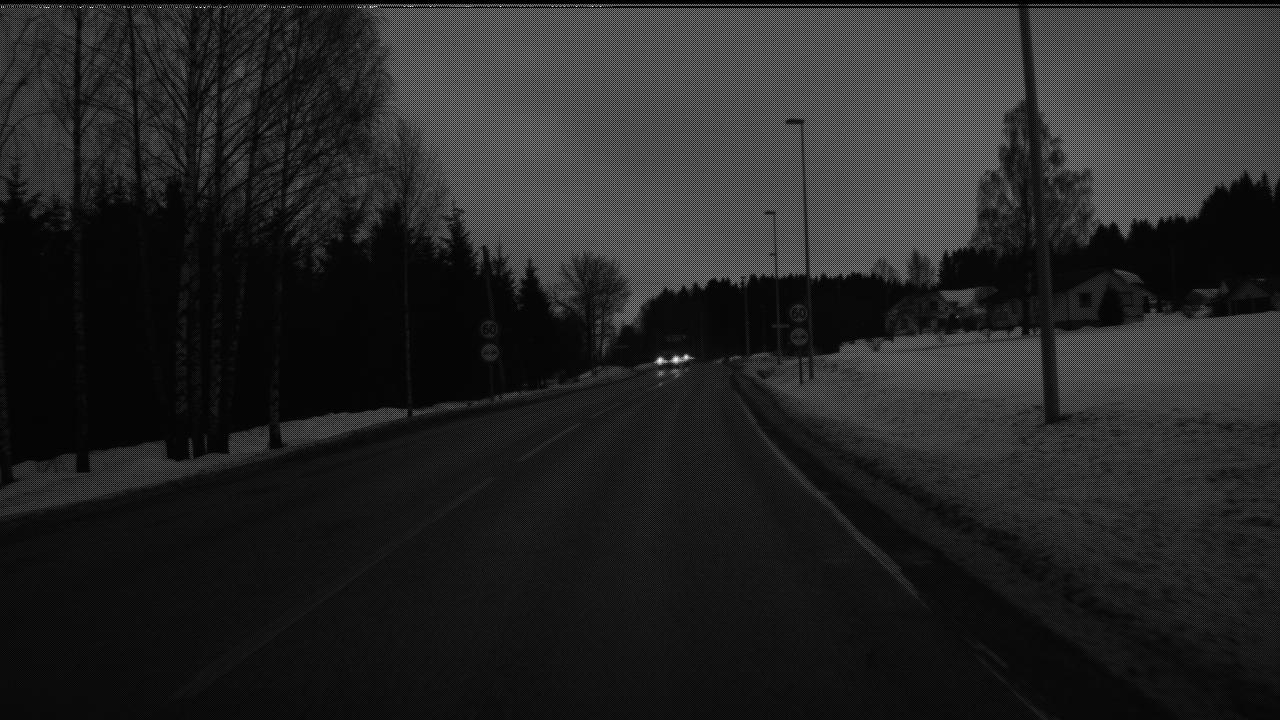pole: (1018, 1, 1060, 413), (798, 115, 814, 372), (772, 205, 782, 352)
